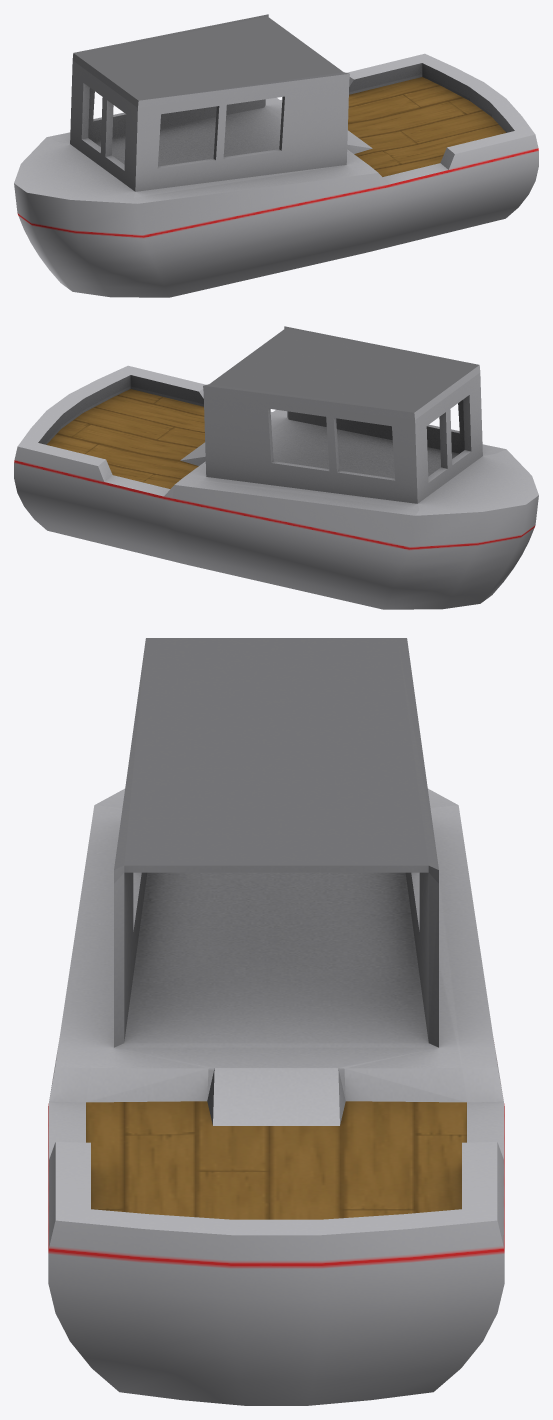
Rendered from Boat_Merchant1.FBX.
3 renders of one model, top to bottom at view 1: azimuth 30°, elevation 25°; view 2: azimuth 150°, elevation 25°; view 3: azimuth 270°, elevation 25°, orthographic. The views are drawn at different scales.
Parts seen in each view (by area): view 1: Box002; view 2: Box002; view 3: Box002.
Part boxes in pixels (x1,y1,x2,y2): Box002: [14, 14, 538, 297]; Box002: [14, 326, 538, 609]; Box002: [48, 638, 504, 1405].
Size of the model in its own units: 300 by 121 by 124.
